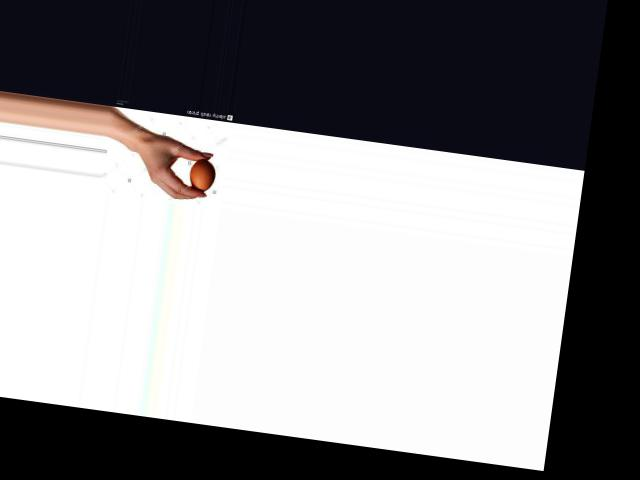egg: (186, 157, 217, 192)
